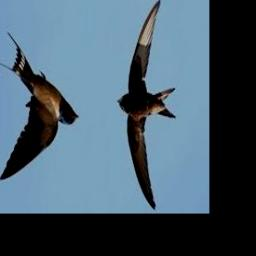Swallow: (117, 0, 176, 209), (0, 34, 79, 181)
